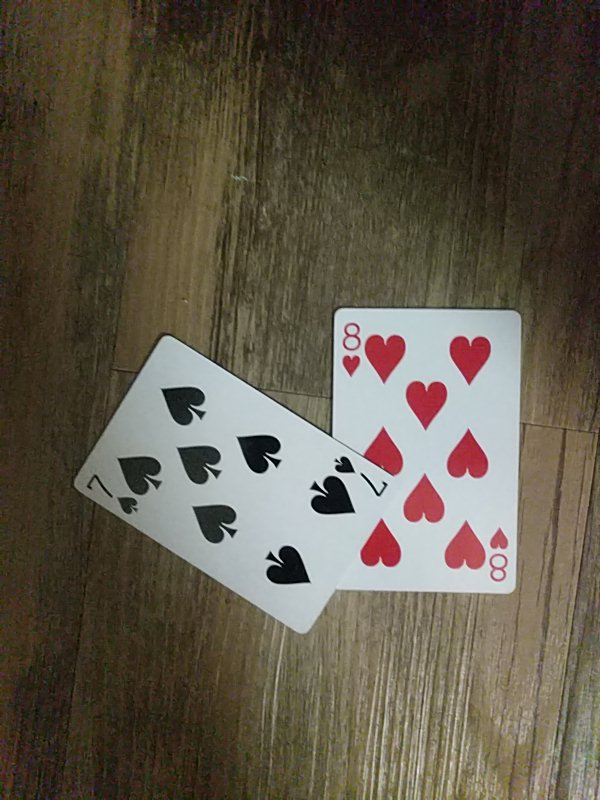Hearts: (325, 308, 526, 593)
Spades: (74, 333, 396, 637)
